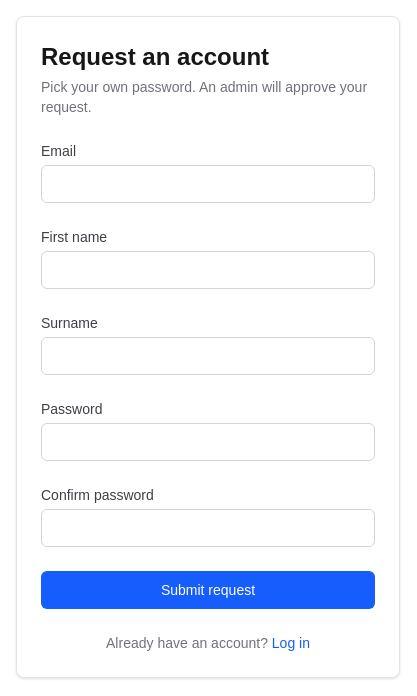
Test case: Doctor flow › registration › submits an account request
Type "new.doc@example.com" into the field named "email" at (208, 184), box [41,165,375,203]
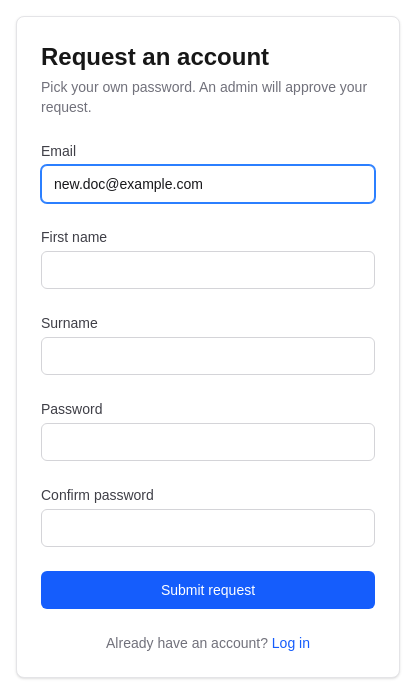
Type "New" into the field named "name" at (208, 270), box [41,251,375,289]
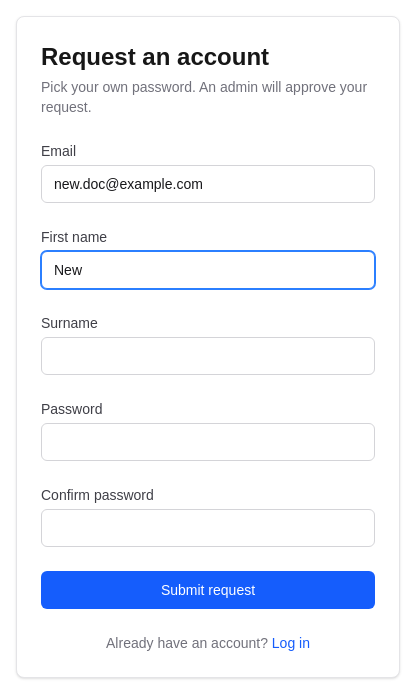
Type "Doc" into the field named "surname" at (208, 356), box [41,337,375,375]
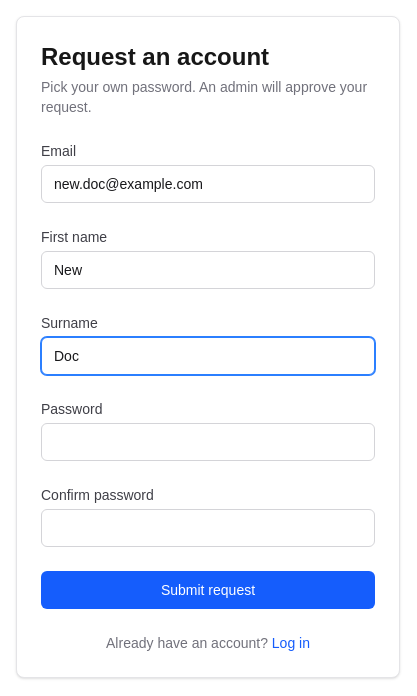
Type "hunter2hunter2" into the password field named "password" at (208, 442), box [41,423,375,461]
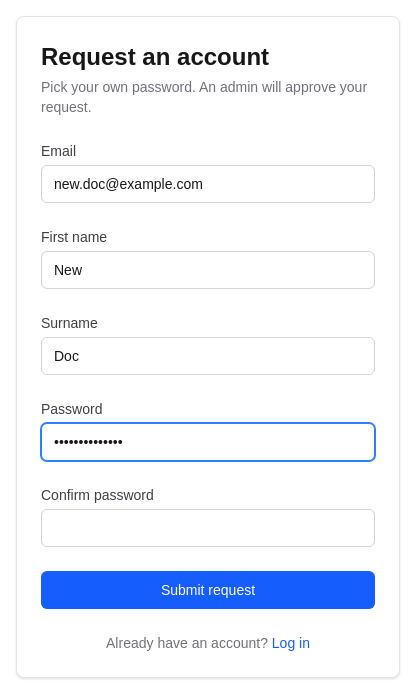
Type "hunter2hunter2" into the password field named "confirm-password" at (208, 528), box [41,509,375,547]
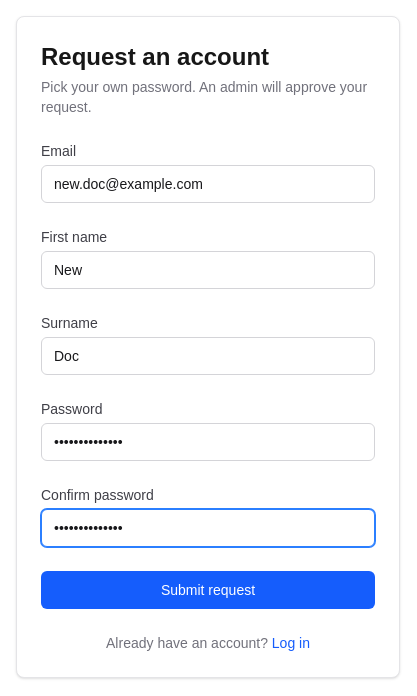
Click the button "Submit request" at (208, 590), box [41,571,375,609]
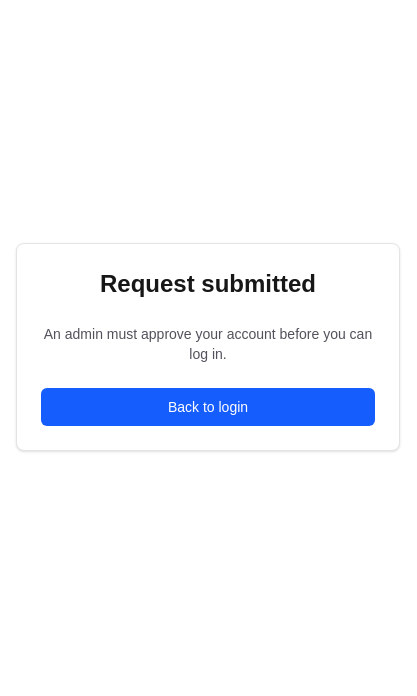
Check: the heading "Request submitted" is shown, box [100,270,316,297]
Check: the text "An admin must approve your account" is shown, box [44,326,372,362]
